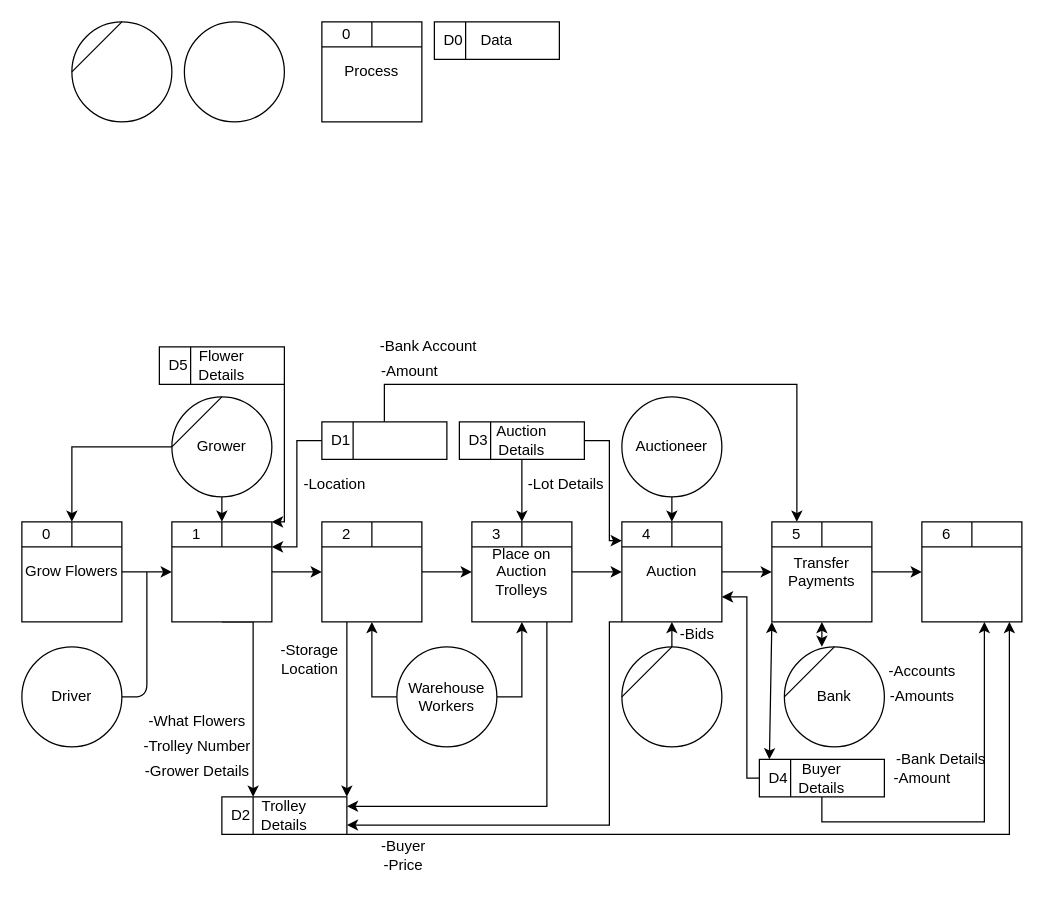
The diagram is 1045 pixels wide and 900 high, and some of its shapes have lost their labels. Each missing label, with the box of its shape:
Buyer: (621, 646, 722, 747)
Collect Flowers: (171, 521, 272, 622)
External: (71, 21, 172, 122)
Grower Details: (321, 421, 447, 459)
Internal: (183, 21, 284, 122)
Move Flowers to Buyer: (921, 521, 1022, 622)
Store Flowers: (321, 521, 422, 622)
